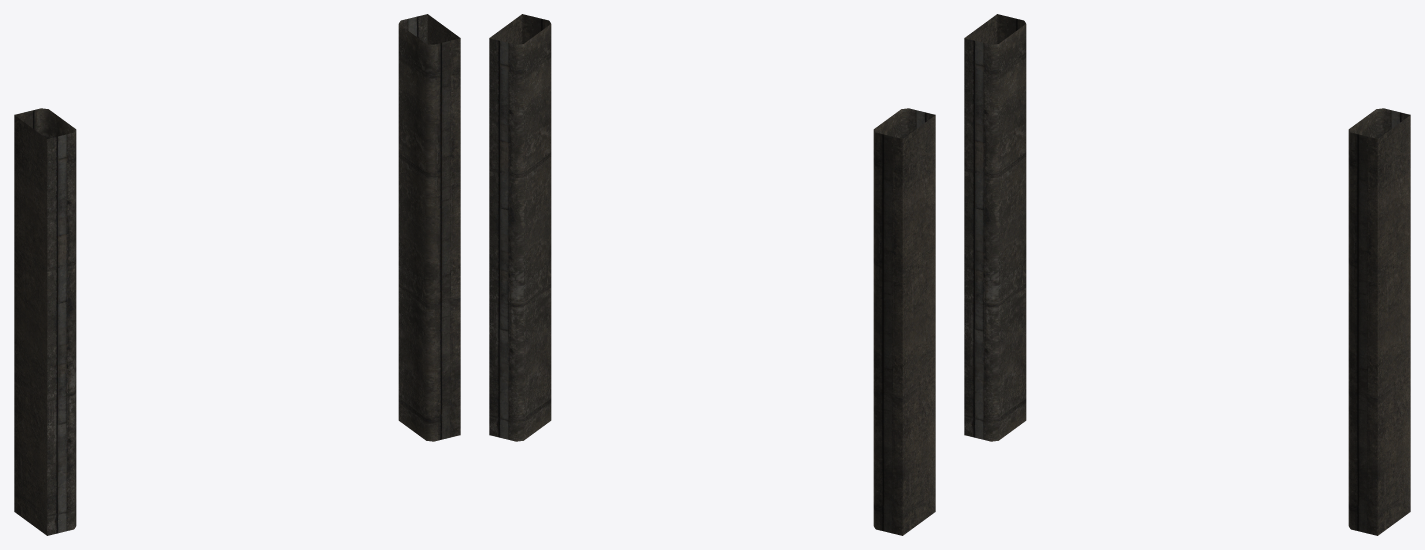
The model's file is tunnel_pillars_wide.DAE.
3 renders of one model, left to right at view 1: azimuth 30°, elevation 25°; view 2: azimuth 150°, elevation 25°; view 3: azimuth 330°, elevation 25°, orthographic.
Parts seen in each view (by area): view 1: tunnel_pillars_wide; view 2: tunnel_pillars_wide; view 3: tunnel_pillars_wide.
Part boxes in pixels (box(x1,y1,x2,y2)): tunnel_pillars_wide: box(14, 14, 460, 535); tunnel_pillars_wide: box(489, 14, 935, 535); tunnel_pillars_wide: box(964, 14, 1410, 535).
Bounding box in the file's own units: 4.36 × 0.605 × 4.
